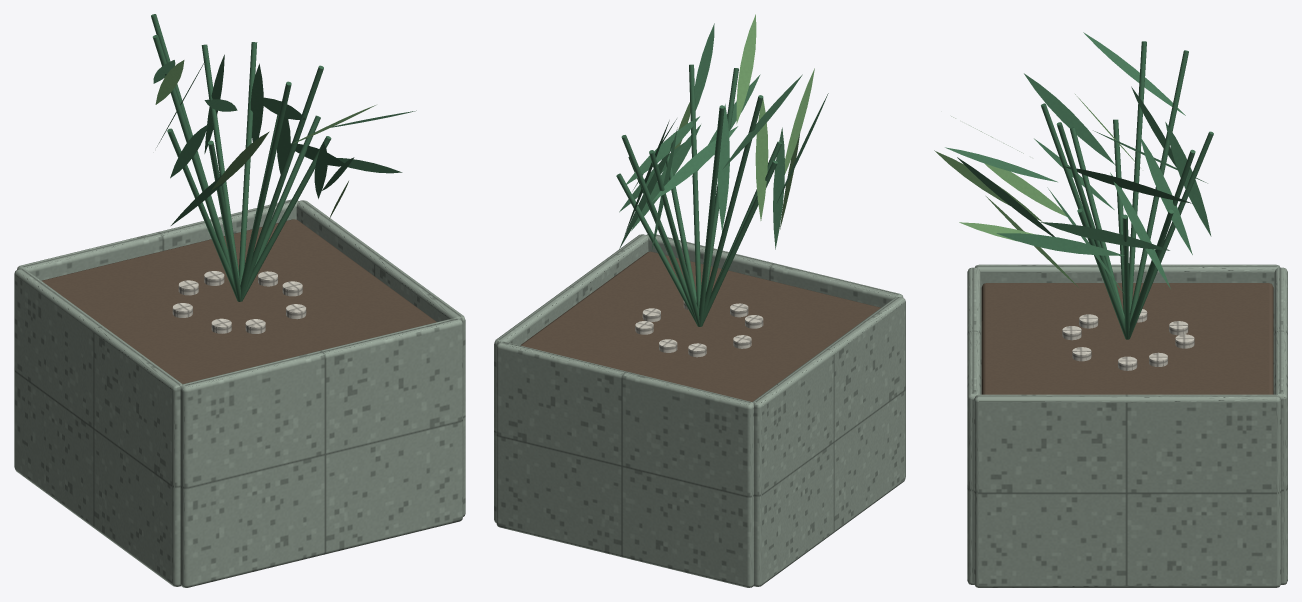
Rendered from detail-plant-square-1.glb.
The picture shows the model from 3 angles, left to right: view 1: azimuth 30°, elevation 25°; view 2: azimuth 150°, elevation 25°; view 3: azimuth 270°, elevation 25°; orthographic projection. The views are drawn at different scales.
Visible parts, largest first — view 1: pot_wall (×4), soil_surface, plant_stem (×10), leaf_blade (×3); view 2: pot_wall (×4), soil_surface, plant_stem (×9), leaf_blade (×10); view 3: pot_wall (×4), soil_surface, leaf_blade (×14), plant_stem (×10).
Boxes of the visible parts, left/top/right/bottom form: pot_wall (×4): left=14, top=199, right=465, bottom=587; soil_surface: left=42, top=219, right=436, bottom=383; plant_stem (×10): left=151, top=14, right=331, bottom=301; leaf_blade (×3): left=170, top=63, right=269, bottom=190; pot_wall (×4): left=494, top=233, right=905, bottom=587; soil_surface: left=520, top=251, right=880, bottom=401; plant_stem (×9): left=616, top=64, right=777, bottom=326; leaf_blade (×10): left=624, top=14, right=814, bottom=249; pot_wall (×4): left=967, top=264, right=1287, bottom=587; soil_surface: left=981, top=283, right=1273, bottom=394; leaf_blade (×14): left=934, top=32, right=1211, bottom=288; plant_stem (×10): left=1041, top=41, right=1213, bottom=339.
Size of the model in its own units: 0.835 by 1.33 by 0.9217.
Materials: 5 (5 with a texture image).
